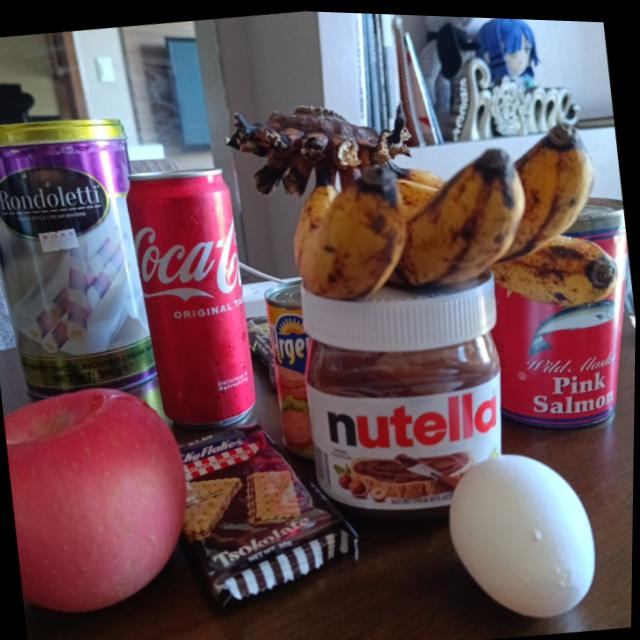apple: (0, 377, 203, 613)
coke: (121, 162, 263, 434)
egg: (442, 438, 607, 624)
